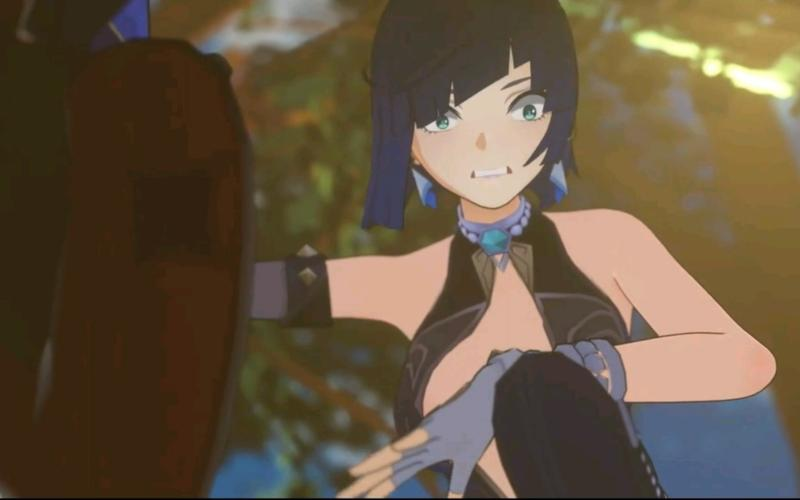夜兰: (238, 1, 779, 500)
